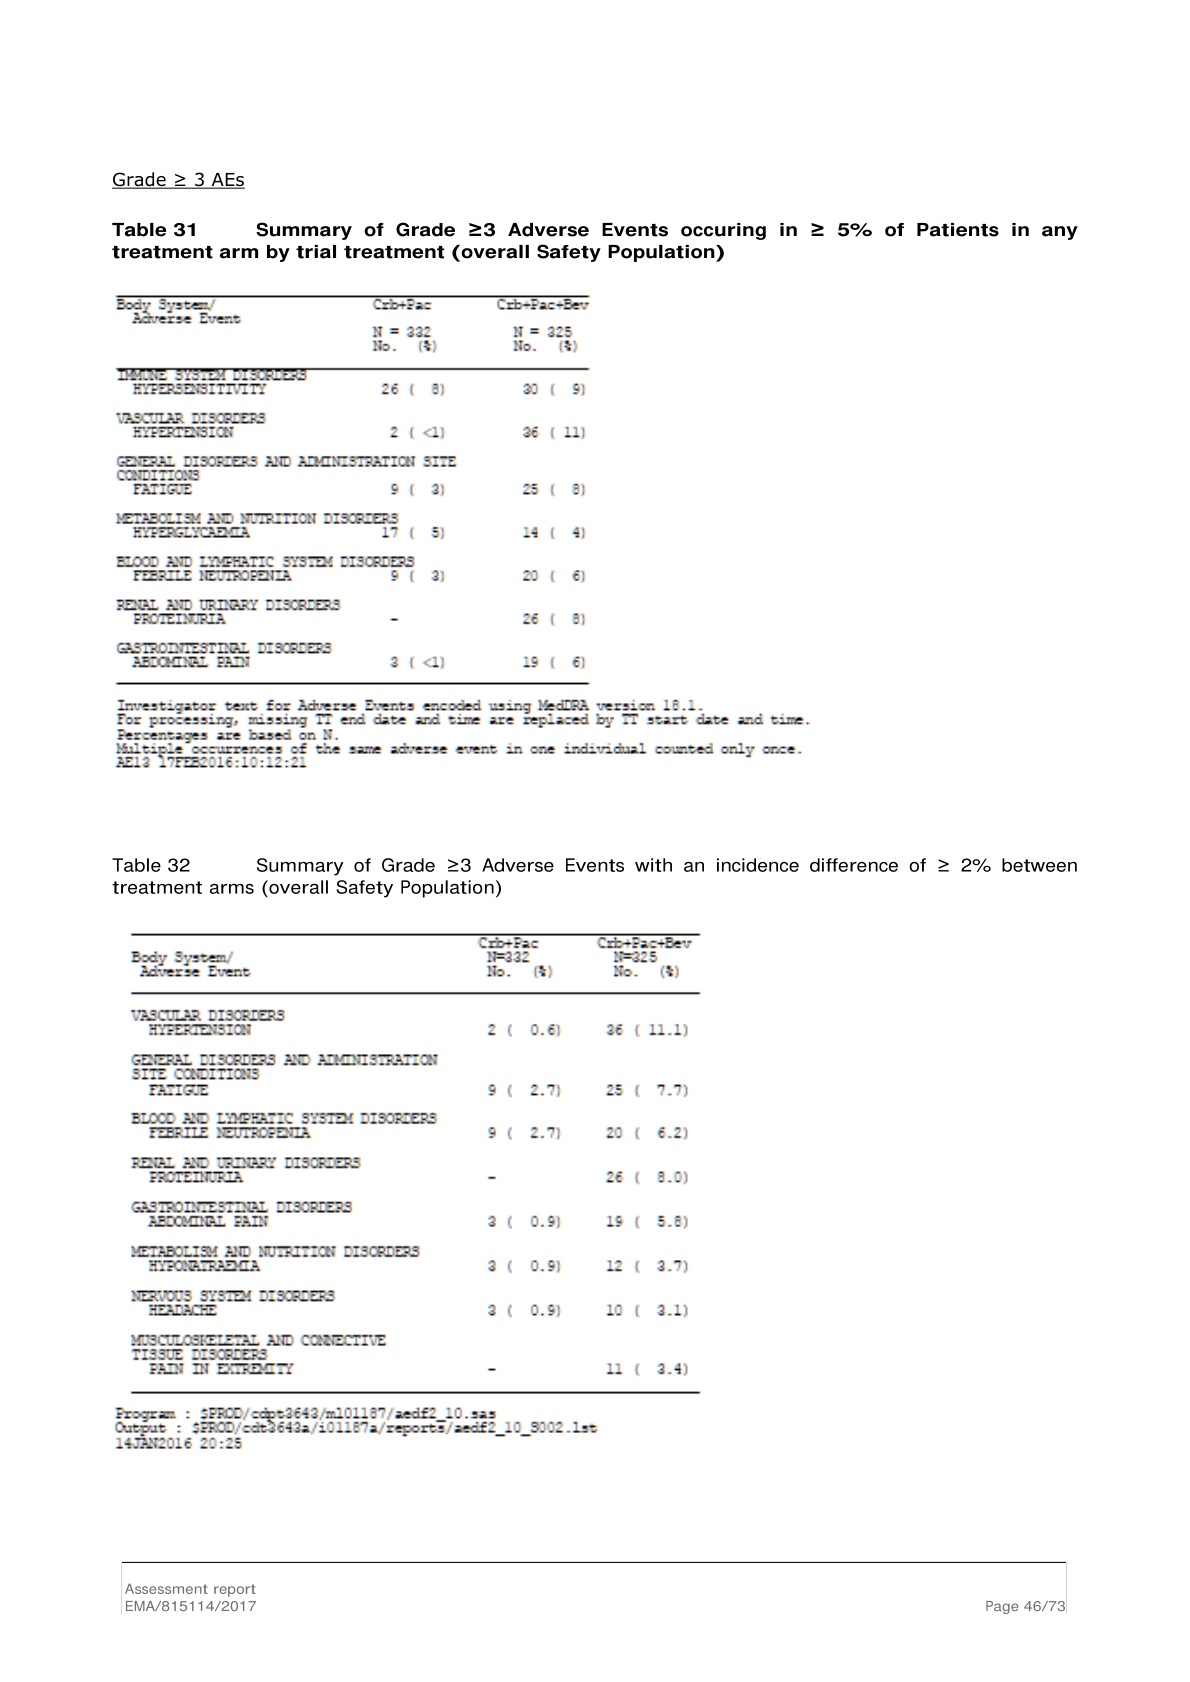partial_lined: (127, 929, 704, 1396), (113, 292, 592, 686)
